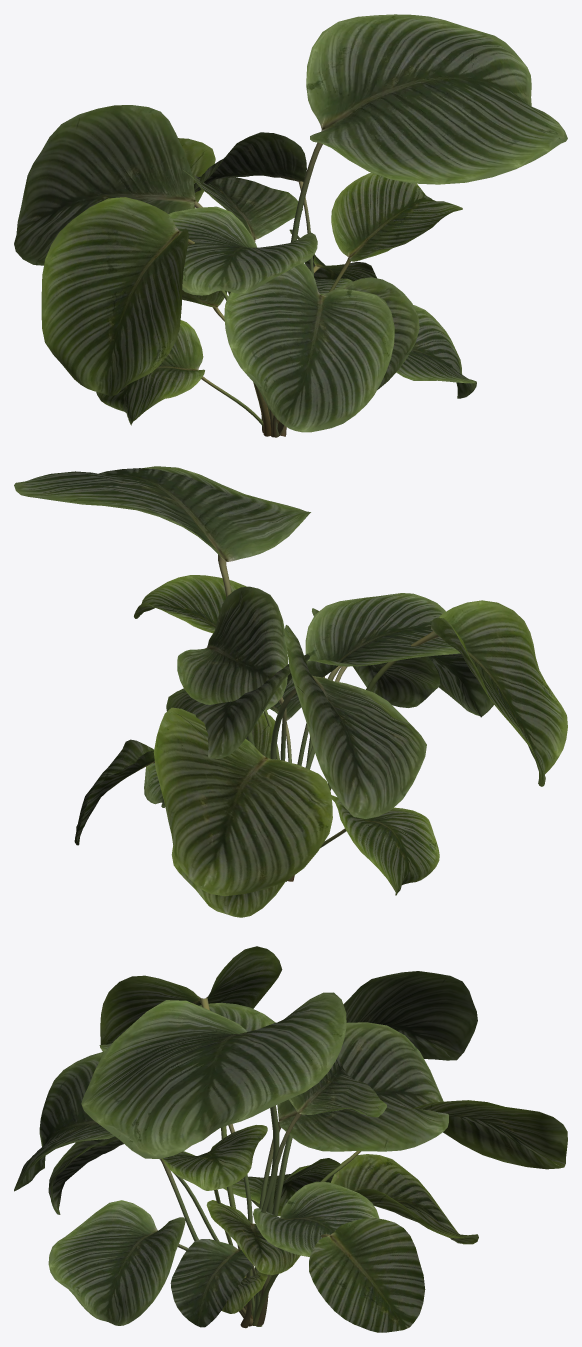
File: calathea_orbifolia.glb
The picture shows the model from 3 angles, top to bottom: view 1: azimuth 30°, elevation 25°; view 2: azimuth 150°, elevation 25°; view 3: azimuth 270°, elevation 25°; orthographic projection. The views are drawn at different scales.
Parts seen in each view (by area): view 1: calathea_a, calathea_b, calathea_c; view 2: calathea_a, calathea_c, calathea_b; view 3: calathea_a, calathea_b, calathea_c.
Boxes of the visible parts, bbox=[...] form: calathea_a: bbox=[14, 14, 567, 437]; calathea_b: bbox=[96, 170, 476, 435]; calathea_c: bbox=[168, 172, 462, 437]; calathea_a: bbox=[14, 466, 567, 896]; calathea_c: bbox=[134, 575, 460, 917]; calathea_b: bbox=[166, 653, 493, 895]; calathea_a: bbox=[48, 946, 567, 1332]; calathea_b: bbox=[14, 1022, 448, 1326]; calathea_c: bbox=[99, 1002, 478, 1326].
Size of the model in its own units: 0.961 by 0.6789 by 0.897.
3 materials, 3 textured.
